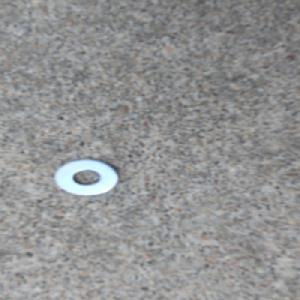Washer: (51, 157, 122, 199)
